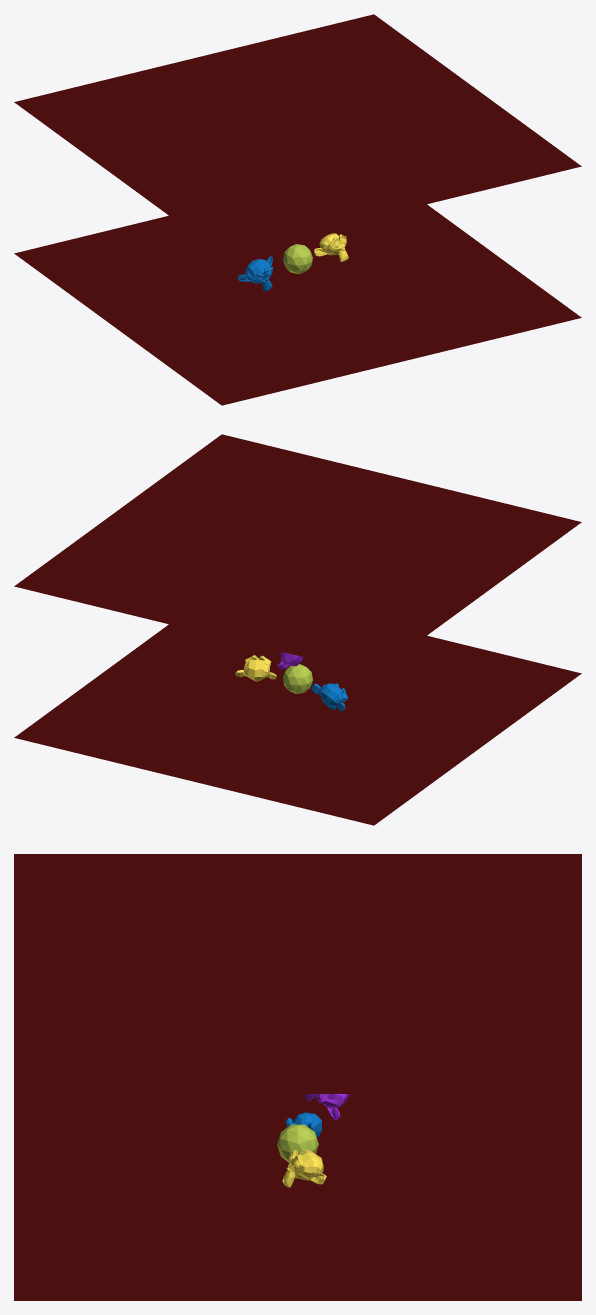
File: monkey_scene.obj
3 renders of one model, top to bottom at view 1: azimuth 30°, elevation 25°; view 2: azimuth 150°, elevation 25°; view 3: azimuth 270°, elevation 25°, orthographic. The views are drawn at different scales.
Parts seen in each view (by area): view 1: Plane.001, Plane, Suzanne.002, Icosphere, Suzanne; view 2: Plane.001, Plane, Icosphere, Suzanne, Suzanne.002; view 3: Plane.001, Plane, Suzanne, Icosphere.
Boxes of the visible parts, left/top/right/bottom form: Plane.001: left=14, top=14, right=581, bottom=254; Plane: left=14, top=204, right=581, bottom=405; Suzanne.002: left=237, top=256, right=273, bottom=291; Icosphere: left=283, top=244, right=312, bottom=273; Suzanne: left=314, top=233, right=348, bottom=261; Plane.001: left=14, top=434, right=581, bottom=674; Plane: left=14, top=624, right=581, bottom=825; Icosphere: left=283, top=664, right=312, bottom=693; Suzanne: left=235, top=655, right=276, bottom=681; Suzanne.002: left=311, top=683, right=347, bottom=711; Plane.001: left=14, top=854, right=581, bottom=1093; Plane: left=14, top=1094, right=581, bottom=1300; Suzanne: left=282, top=1150, right=326, bottom=1187; Icosphere: left=277, top=1124, right=318, bottom=1161.
Bounding box in the file's own units: 27.04 × 10.86 × 27.04.
